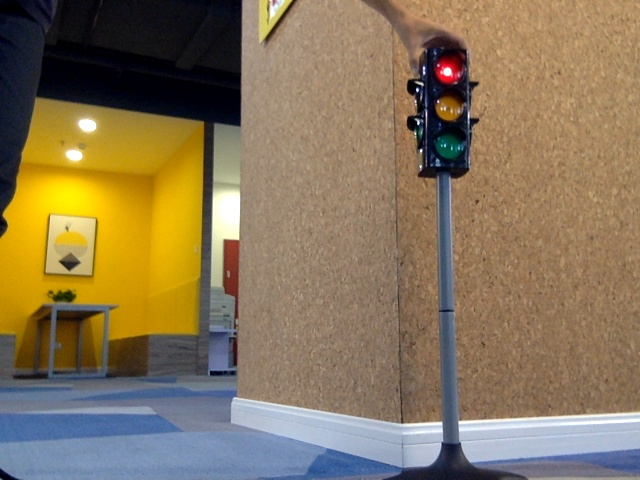red: (430, 50, 464, 164)
